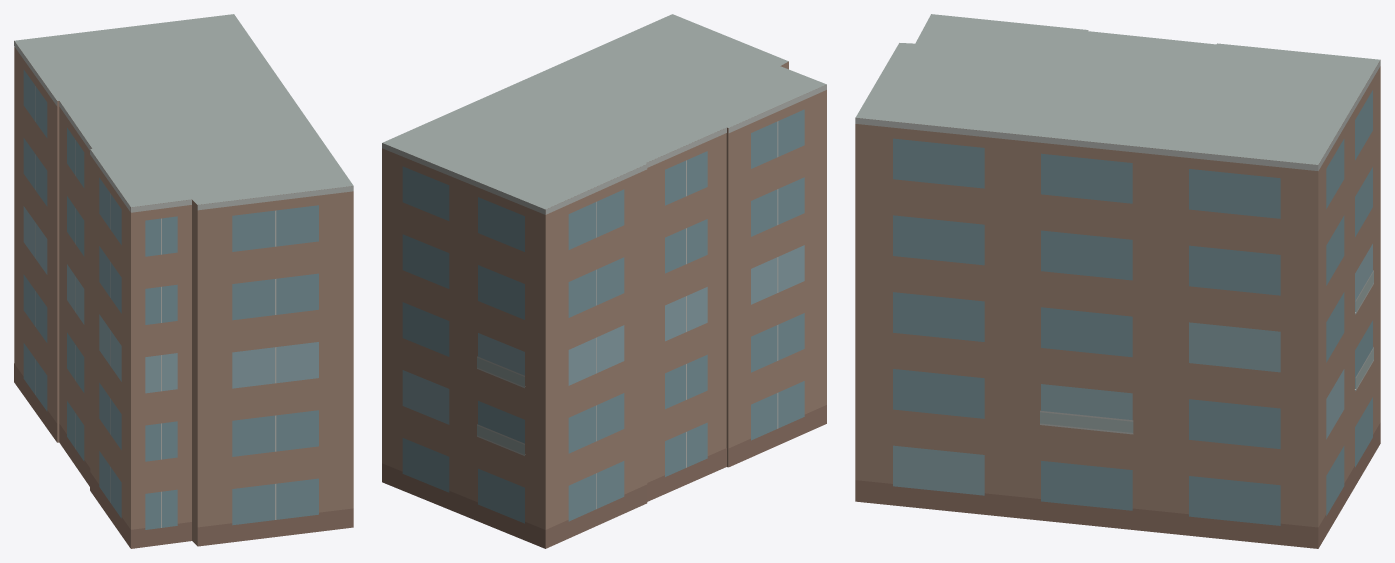
File: survey-upis-32595639.glb
3 views of the same model, side by side, from view 1: azimuth 30°, elevation 25°; view 2: azimuth 150°, elevation 25°; view 3: azimuth 270°, elevation 25° (orthographic). The views are drawn at different scales.
Parts seen in each view (by area): view 1: survey-upis-32595639.tmp; view 2: survey-upis-32595639.tmp; view 3: survey-upis-32595639.tmp.
Part boxes in pixels (x1=…): survey-upis-32595639.tmp: x1=14, y1=14, x2=353, y2=548; survey-upis-32595639.tmp: x1=382, y1=14, x2=826, y2=548; survey-upis-32595639.tmp: x1=855, y1=14, x2=1380, y2=548.
Bounding box in the file's own units: 12.88 × 15.25 × 18.92.
